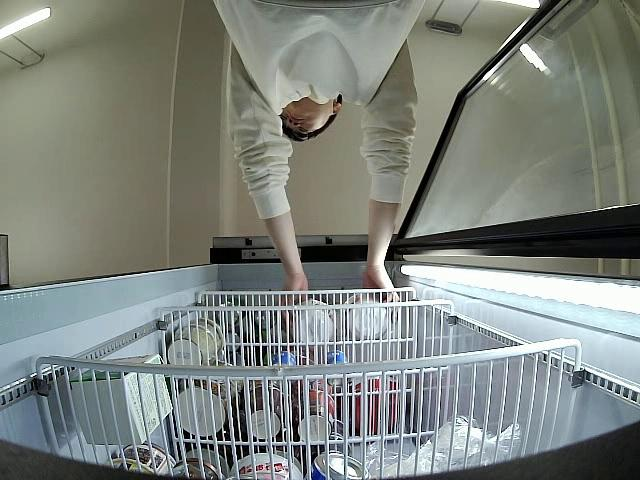00_hand: (361, 265, 400, 321), (275, 271, 310, 323)
